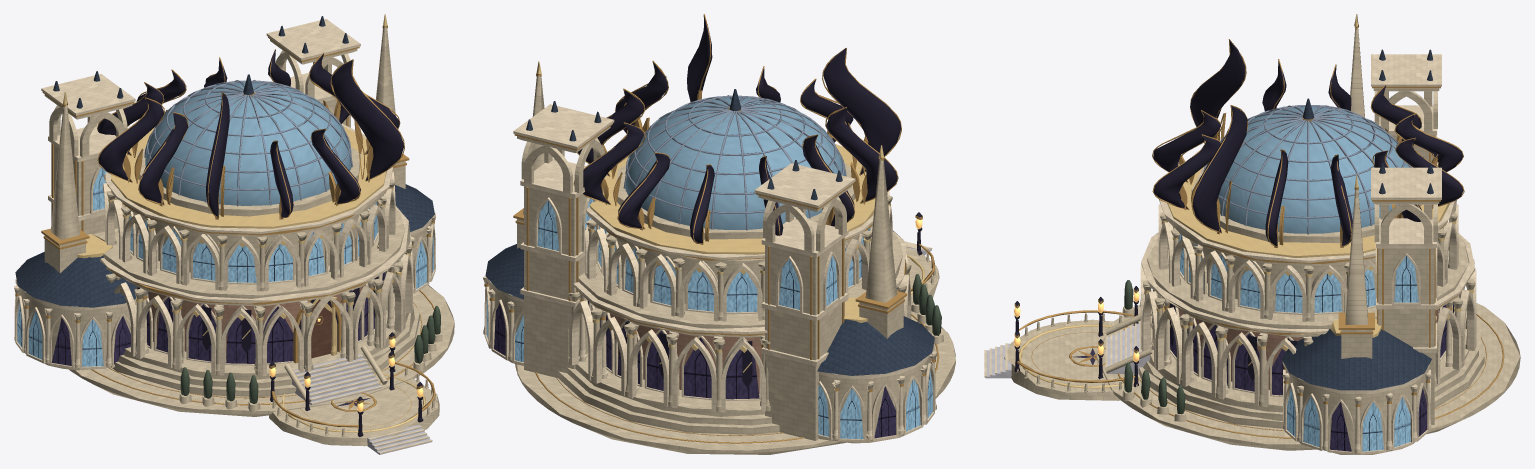
File: grandloft-hall-far.glb
3 renders of one model, left to right at view 1: azimuth 30°, elevation 25°; view 2: azimuth 150°, elevation 25°; view 3: azimuth 270°, elevation 25°, orthographic. The views are drawn at different scales.
Bounding box in the file's own units: 23.69 × 16.06 × 26.55.
Materials: 16 (16 with a texture image).
